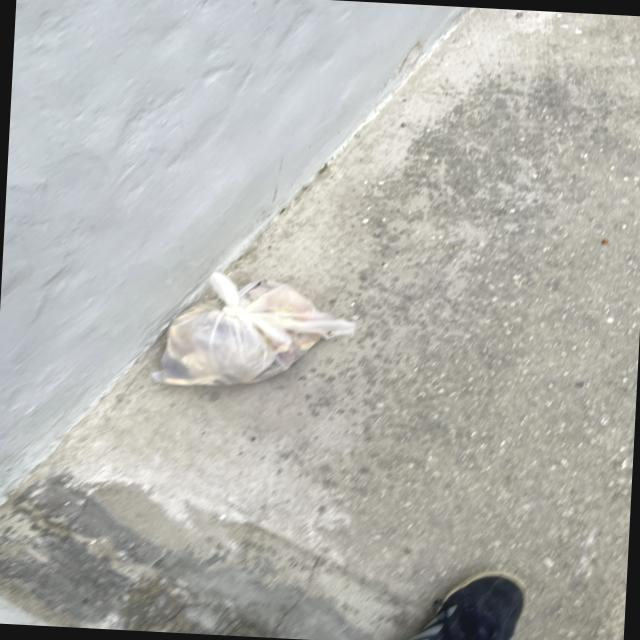white_bag: (120, 264, 360, 400)
